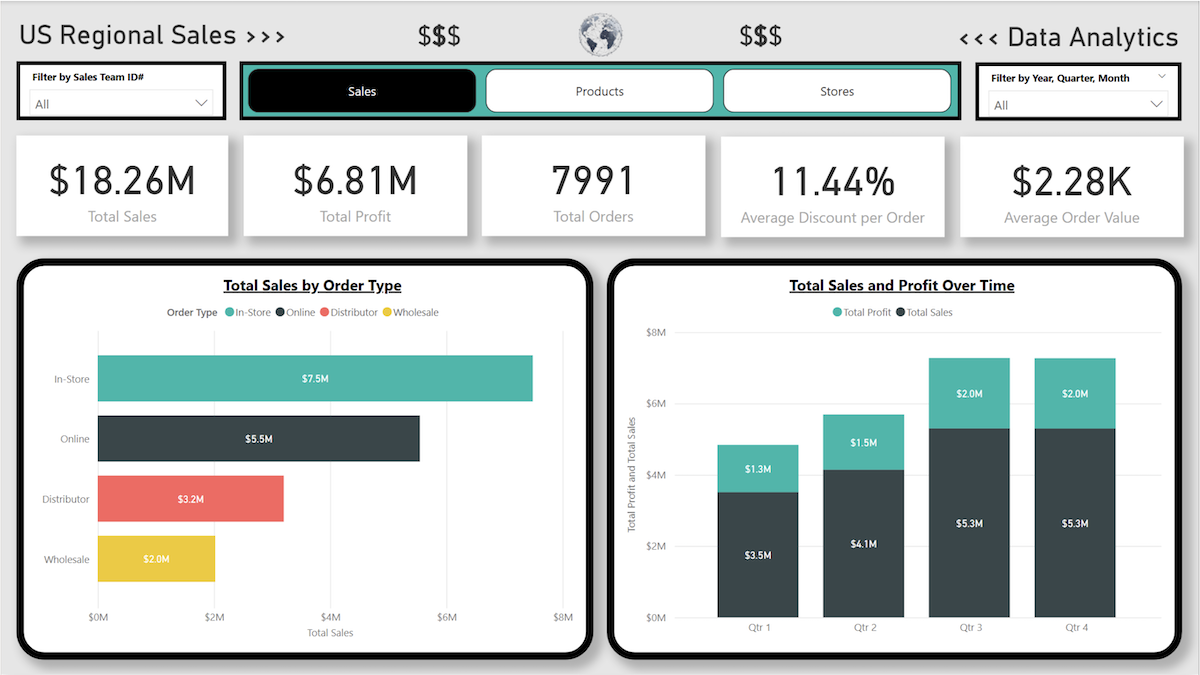

This screenshot's page, from the dashboard's own definition file:
{"tool":"powerbi","page":{"name":"Sales","canvas":[1280,720],"ordinal":0},"visuals":[{"type":"card","fields":{"Values":["regional_sales_db fact_sales.Revenue"]},"box":[16,143.4,226.5,107.7],"z":0,"group":"g4"},{"type":"group","id":"g1","title":"Group 4","box":[16,64,1248,640],"z":1000},{"type":"slicer","fields":{"Values":["regional_sales_db dim_date.Year","regional_sales_db dim_date.Quarter","dim_date.Date.Variation.Date Hierarchy.Month"]},"box":[1041.9,64.6,220.6,62.4],"z":1000,"group":"g1"},{"type":"card","fields":{"Values":["fact_sales.Profit"]},"box":[258.7,143.4,239.2,107.7],"z":1000,"group":"g4"},{"type":"group","id":"g2","title":"Group 5","box":[14,0,1250,72.6],"z":2000},{"type":"textbox","box":[14,14,322.6,50.7],"z":2000,"group":"g2"},{"type":"shape","box":[254,64.4,771.9,62.9],"z":2000,"group":"g5"},{"type":"barChart","title":"Total Sales by Order Type","fields":{"Category":["dim_salestype.SalesType"],"Y":["fact_sales.Total Sales"],"Series":["dim_salestype.SalesType"]},"box":[16.4,274.7,617.1,429.3],"z":2000,"group":"g1"},{"type":"pageNavigator","box":[263.2,72.3,753.4,47.2],"z":2500,"group":"g5"},{"type":"textbox","box":[1008,16,256,48],"z":3000,"group":"g2"},{"type":"card","fields":{"Values":["fact_sales.AvgOrderValue"]},"box":[1024.8,144.5,239.2,107.7],"z":3000,"group":"g4"},{"type":"columnChart","title":"Total Sales and Profit Over Time","fields":{"Category":["dim_date.Date.Variation.Date Hierarchy.Year","dim_date.Date.Variation.Date Hierarchy.Quarter","dim_date.Date.Variation.Date Hierarchy.Month","dim_date.Date.Variation.Date Hierarchy.Day"],"Y":["fact_sales.Total Profit","fact_sales.Total Sales"]},"box":[647.4,274.7,615.1,429.3],"z":3000,"group":"g1"},{"type":"image","box":[600.2,0,81.8,72.6],"z":3500,"group":"g2"},{"type":"textbox","box":[254.6,15,770.8,50.7],"z":4000,"group":"g2"},{"type":"group","id":"g3","title":"Group 1","box":[254,64.4,771.9,62.9],"z":4000,"group":"g1"},{"type":"card","title":"Total Orders","fields":{"Values":["Count(fact_sales.orderID)"]},"box":[514,143.4,239.2,107.7],"z":5000,"group":"g4"},{"type":"slicer","title":"Sales Team ID #","fields":{"Values":["dim_salesteam.salesteamID"]},"box":[16.6,64,224.6,62.8],"z":6000,"group":"g1"},{"type":"group","id":"g4","title":"Group 2","box":[16,143.4,1248,108.8],"z":7000,"group":"g1"},{"type":"card","fields":{"Values":["fact_sales.AvgDiscount"]},"box":[769.4,144.5,239.2,107.7],"z":7000,"group":"g4"},{"type":"group","id":"g5","title":"Group 3","box":[254,64.4,771.9,62.9],"z":7001,"group":"g3"}]}

Visuals, with their boxes in screenshot pixels (x1, y1, x2, y2), scaled from the page's 1280x720 canvas onto the 1200x675 screenshot:
card - regional_sales_db fact_sales.Revenue: Rect(15, 134, 227, 235)
"Group 4" group: Rect(15, 60, 1185, 660)
slicer - regional_sales_db dim_date.Year x regional_sales_db dim_date.Quarter: Rect(977, 61, 1184, 119)
card - fact_sales.Profit: Rect(243, 134, 467, 235)
"Group 5" group: Rect(13, 0, 1185, 68)
textbox: Rect(13, 13, 316, 61)
shape: Rect(238, 60, 962, 119)
"Total Sales by Order Type" barChart: Rect(15, 258, 594, 660)
pageNavigator: Rect(247, 68, 953, 112)
textbox: Rect(945, 15, 1185, 60)
card - fact_sales.AvgOrderValue: Rect(961, 135, 1185, 236)
"Total Sales and Profit Over Time" columnChart: Rect(607, 258, 1184, 660)
image: Rect(563, 0, 639, 68)
textbox: Rect(239, 14, 961, 62)
"Group 1" group: Rect(238, 60, 962, 119)
"Total Orders" card: Rect(482, 134, 706, 235)
"Sales Team ID #" slicer: Rect(16, 60, 226, 119)
"Group 2" group: Rect(15, 134, 1185, 236)
card - fact_sales.AvgDiscount: Rect(721, 135, 946, 236)
"Group 3" group: Rect(238, 60, 962, 119)
